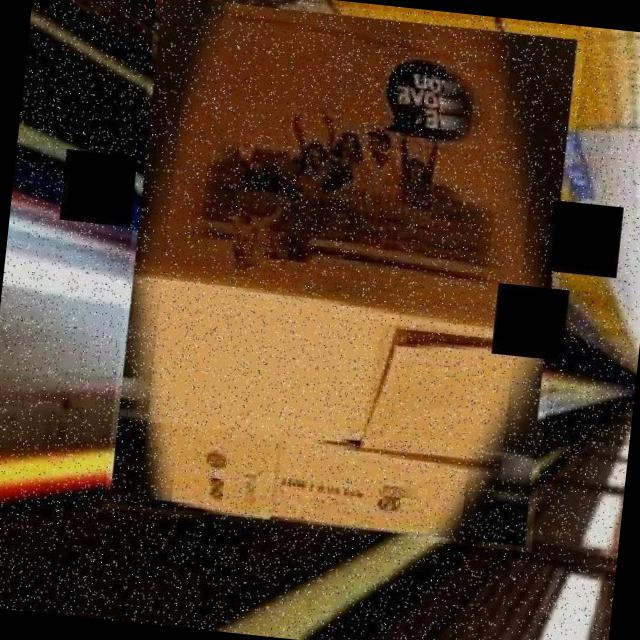box: (102, 0, 585, 551)
